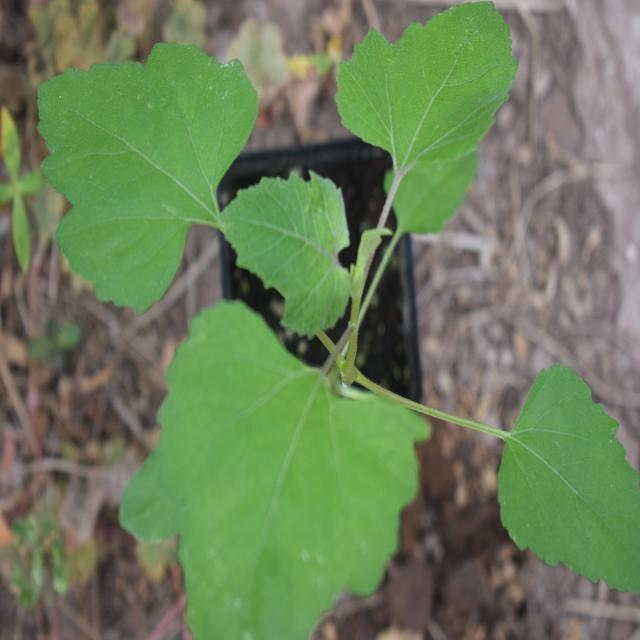cocklebur: (51, 20, 584, 582)
